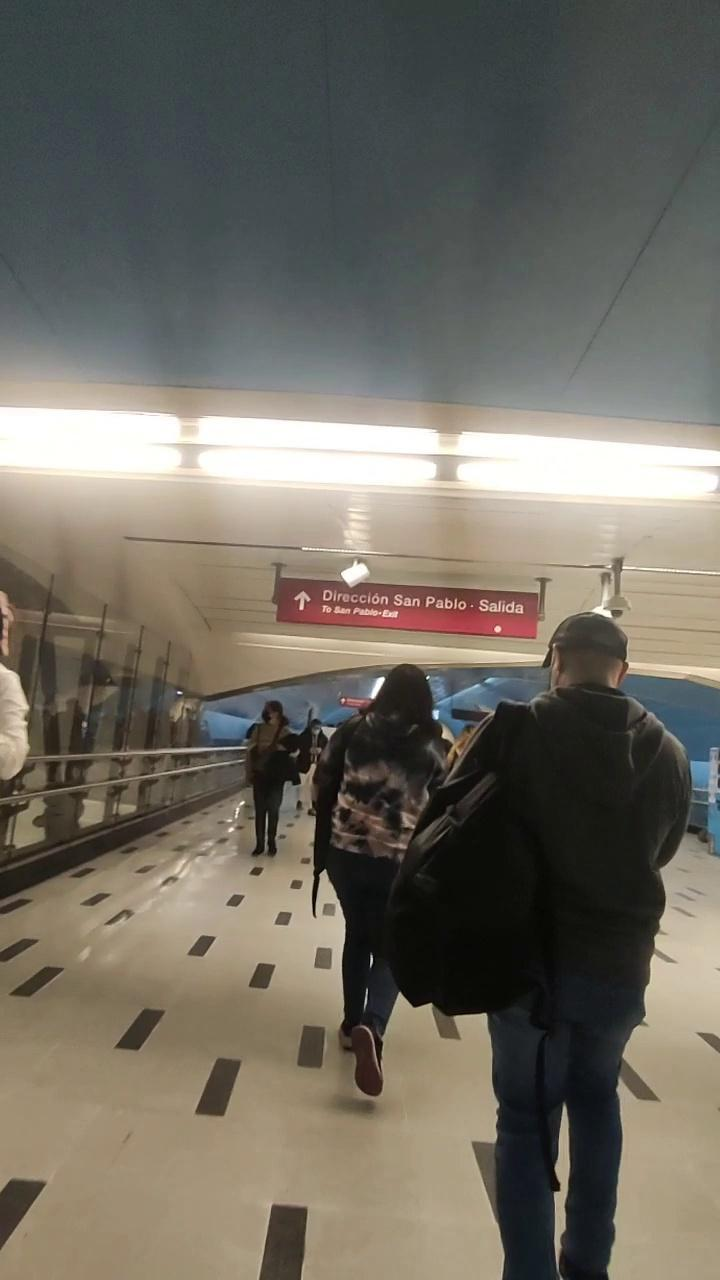up arrow: (288, 590, 318, 614)
